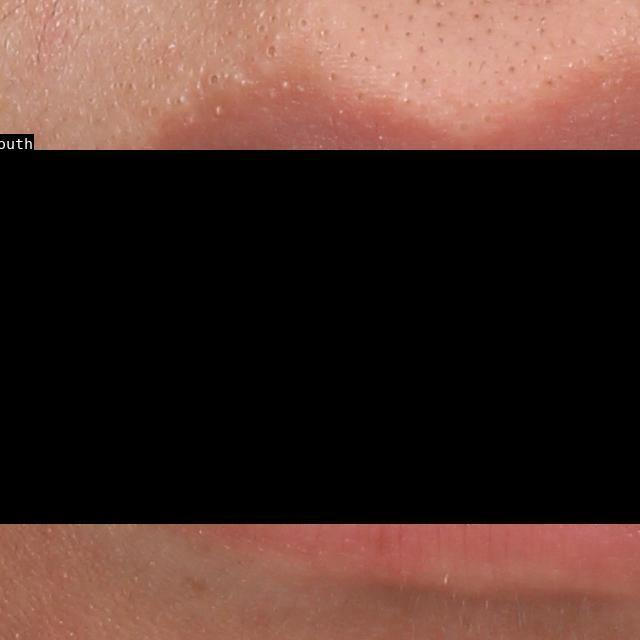comedo: (261, 42, 280, 61), (205, 71, 221, 88), (298, 15, 310, 30)
